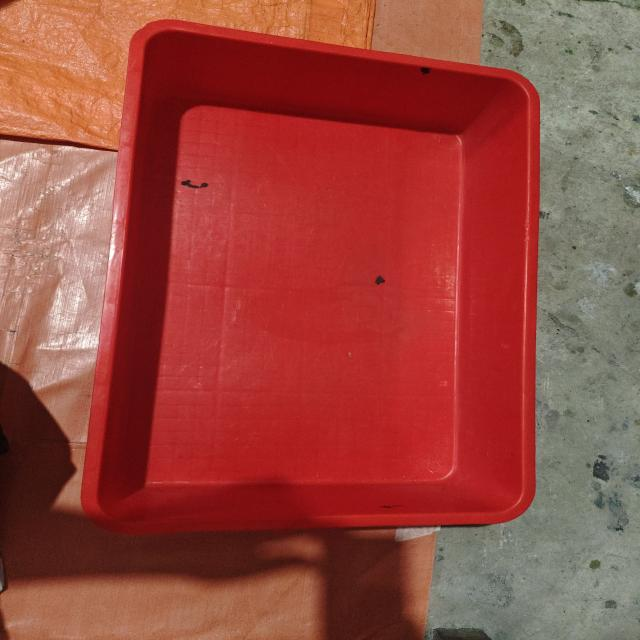red plastic box: (81, 19, 541, 535)
